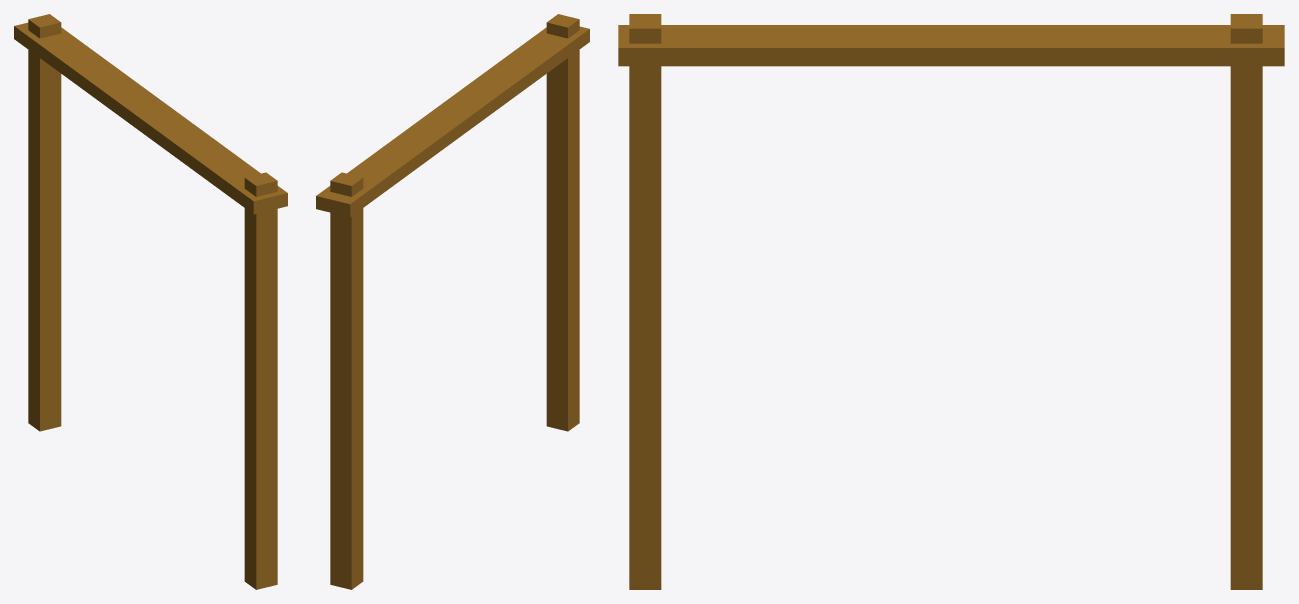
Rendered from fence1.fbx.
The picture shows the model from 3 angles, left to right: view 1: azimuth 30°, elevation 25°; view 2: azimuth 150°, elevation 25°; view 3: azimuth 270°, elevation 25°; orthographic projection. The views are drawn at different scales.
Visible parts, largest first — view 1: Cube_4; view 2: Cube_4; view 3: Cube_4.
Part boxes in pixels (x1=…): Cube_4: x1=14, y1=14, x2=287, y2=589; Cube_4: x1=316, y1=14, x2=589, y2=589; Cube_4: x1=618, y1=14, x2=1284, y2=589.
Bounding box in the file's own units: 28.81 × 326 × 350.
